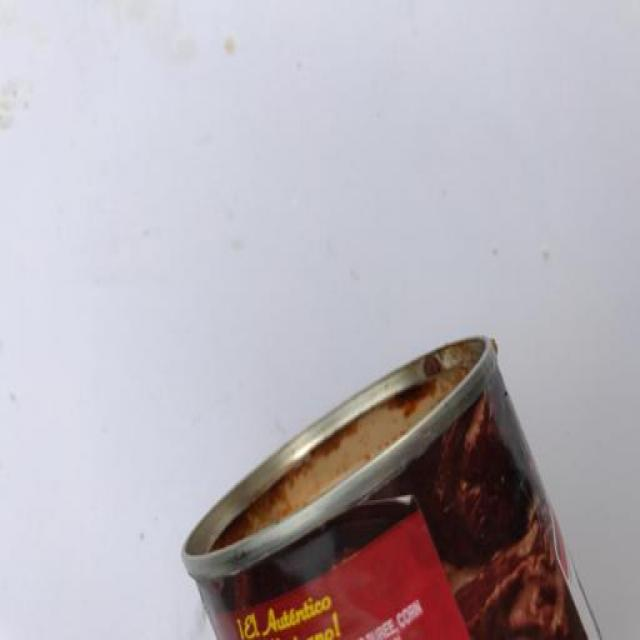metel: (166, 316, 608, 640)
